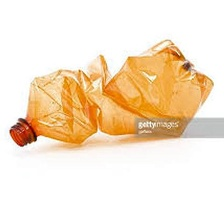bottle: (7, 37, 215, 152)
